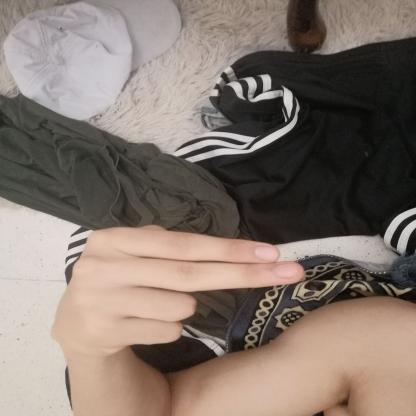AYN: (34, 212, 321, 368)
